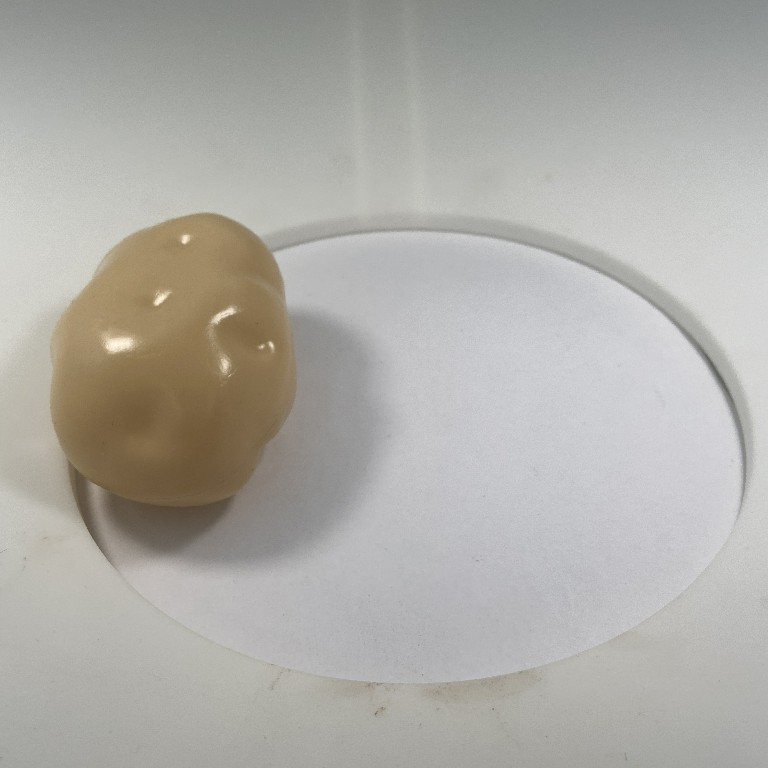fruit_potato: (44, 210, 302, 512)
